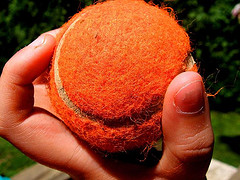tennis ball: (44, 1, 202, 153)
